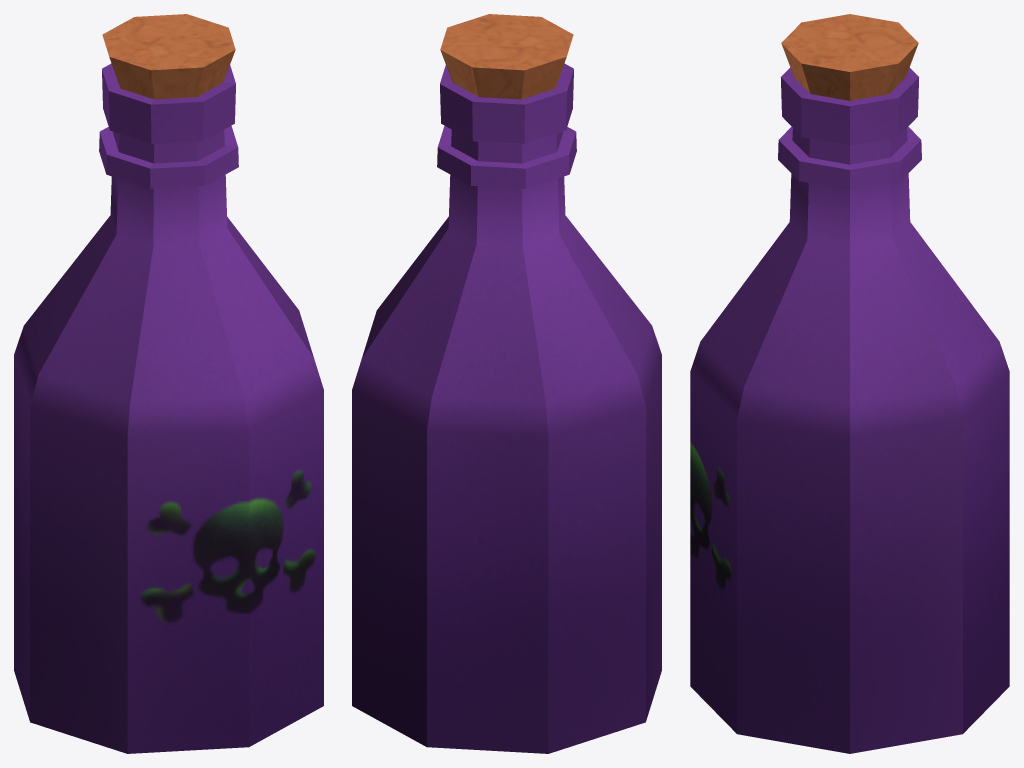
File: Bottle_01_C2_001.fbx
The picture shows the model from 3 angles, left to right: view 1: azimuth 30°, elevation 25°; view 2: azimuth 150°, elevation 25°; view 3: azimuth 270°, elevation 25°; orthographic projection.
Parts seen in each view (by area): view 1: Bottle_01_C2_001; view 2: Bottle_01_C2_001; view 3: Bottle_01_C2_001.
Part boxes in pixels (<box>): Bottle_01_C2_001: <box>14,14,323,753</box>; Bottle_01_C2_001: <box>352,14,661,753</box>; Bottle_01_C2_001: <box>690,14,1009,753</box>.
Bounding box in the file's own units: 10.33 × 22.98 × 10.33.
